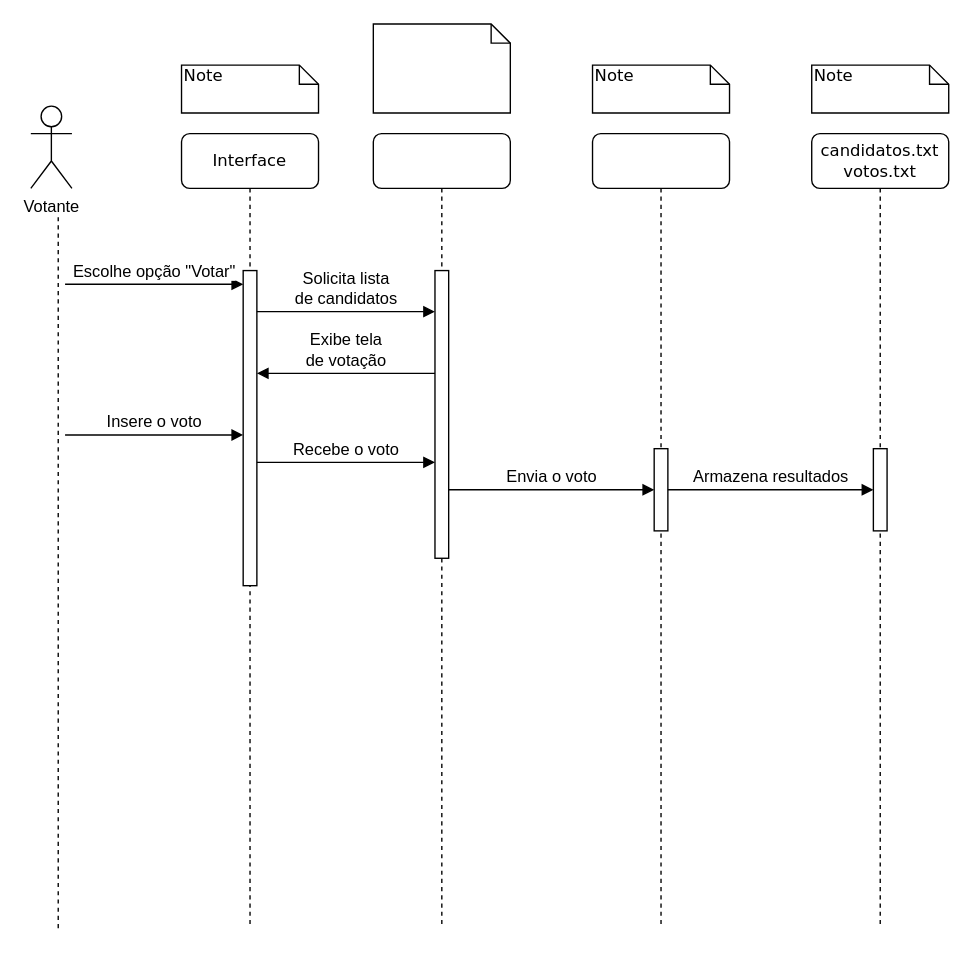
The diagram is 973 pixels wide and 954 high, and some of its shapes have lost their labels. Here are the shapes that lost their labels. From the top down, the box of each, then its label:
(372, 23, 510, 113): Note Não é possível iniciar uma eleição sem pelo menos 1 candidato cadastrado
(372, 132, 510, 928): Controlador Geral
(591, 132, 730, 928): Voto
